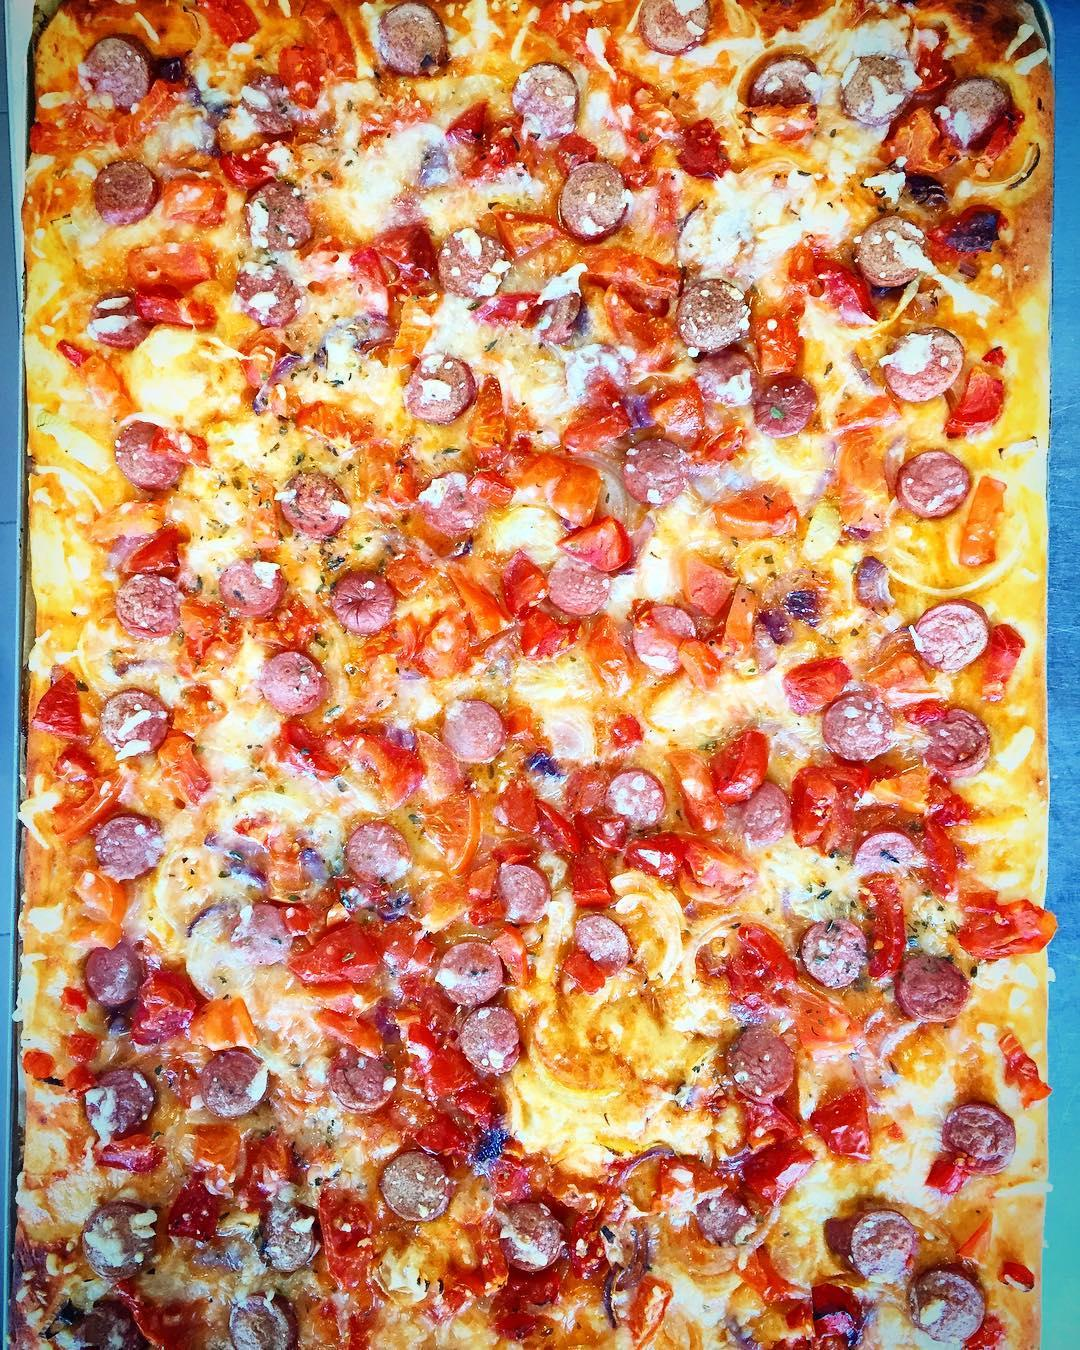Pepperoni: (378, 1143, 460, 1239), (72, 1198, 160, 1285), (408, 466, 489, 555), (230, 172, 315, 249), (851, 1202, 920, 1292), (215, 1283, 304, 1350), (344, 816, 413, 900), (899, 1272, 986, 1339), (555, 162, 629, 240), (855, 216, 935, 289), (326, 560, 401, 636), (112, 562, 182, 644), (493, 1199, 568, 1273), (886, 333, 970, 398), (83, 31, 144, 117), (506, 66, 577, 137), (612, 447, 691, 510), (97, 689, 169, 757), (257, 1197, 323, 1271), (797, 918, 865, 989), (460, 1008, 522, 1084), (893, 953, 961, 1022), (628, 607, 699, 673), (745, 56, 814, 122), (236, 888, 295, 964), (434, 940, 503, 1005), (731, 1024, 792, 1095), (640, 0, 714, 60), (412, 347, 468, 424), (947, 73, 1004, 147), (918, 603, 982, 669), (85, 1066, 154, 1126), (204, 1040, 262, 1112), (281, 476, 345, 540), (112, 420, 179, 482), (732, 770, 792, 836), (905, 457, 969, 519), (942, 1094, 1002, 1160), (87, 160, 150, 222), (378, 6, 439, 69), (921, 712, 987, 770), (439, 233, 497, 296), (258, 654, 330, 705), (600, 768, 663, 825), (202, 830, 259, 892), (687, 284, 742, 348), (447, 699, 503, 762), (89, 820, 160, 868), (244, 272, 302, 330), (501, 862, 549, 928), (846, 64, 901, 120), (830, 696, 881, 756), (85, 944, 139, 1000), (757, 368, 809, 425), (339, 1059, 393, 1110), (223, 560, 281, 606), (553, 562, 607, 612), (576, 909, 618, 963)
Pizza: (0, 0, 1011, 1333)
Tomatoes: (257, 719, 433, 801), (670, 548, 763, 680), (581, 251, 689, 354), (506, 795, 618, 885), (369, 606, 482, 693), (543, 1184, 639, 1284), (897, 764, 964, 893), (850, 863, 918, 986), (168, 586, 247, 683), (464, 574, 559, 655), (705, 932, 792, 1014), (299, 997, 399, 1067), (677, 828, 752, 920), (516, 455, 620, 521), (403, 1082, 493, 1155), (122, 249, 208, 323), (129, 966, 205, 1049), (270, 35, 344, 120), (30, 656, 98, 747), (488, 213, 579, 281), (303, 921, 390, 986), (624, 1155, 717, 1214), (883, 104, 952, 183), (41, 734, 105, 819), (968, 897, 1050, 962), (155, 726, 216, 813), (197, 1132, 283, 1192), (137, 58, 197, 141), (401, 1009, 461, 1093), (944, 374, 1014, 443), (620, 817, 687, 889), (811, 1084, 878, 1155), (1001, 1017, 1050, 1112), (356, 230, 431, 292), (324, 1199, 377, 1286), (623, 1265, 676, 1350), (975, 614, 1028, 698), (562, 520, 634, 581), (734, 1141, 798, 1208), (797, 258, 867, 315), (565, 397, 628, 460), (661, 118, 728, 174), (811, 776, 873, 836), (457, 110, 514, 176), (164, 176, 229, 233), (91, 1124, 168, 1170), (917, 1143, 978, 1197), (785, 654, 841, 711), (642, 382, 709, 431), (720, 741, 770, 791), (992, 1250, 1041, 1302), (724, 476, 781, 518), (131, 543, 187, 577), (487, 293, 540, 328)
